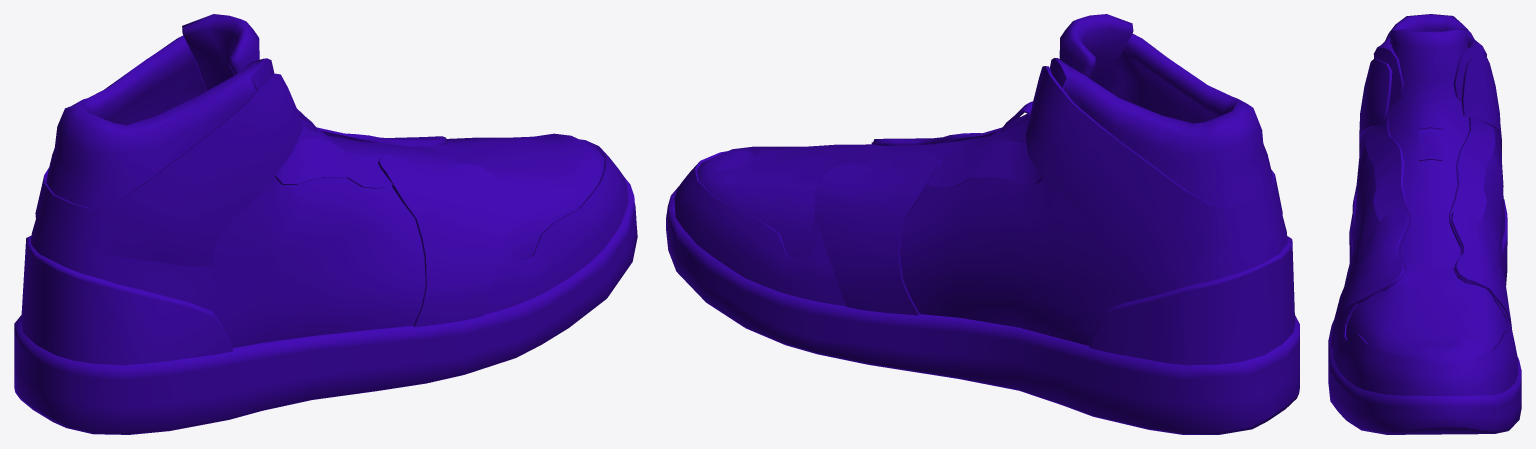
The model's file is AirJordan.FBX.
3 renders of one model, left to right at view 1: azimuth 30°, elevation 25°; view 2: azimuth 150°, elevation 25°; view 3: azimuth 270°, elevation 25°, orthographic. The views are drawn at different scales.
Parts seen in each view (by area): view 1: AirJordan; view 2: AirJordan; view 3: AirJordan.
Part boxes in pixels (x1,y1,x2,y2): AirJordan: [14, 14, 637, 434]; AirJordan: [666, 14, 1299, 434]; AirJordan: [1328, 14, 1521, 434].
Bounding box in the file's own units: 213 × 119 × 71.83.
